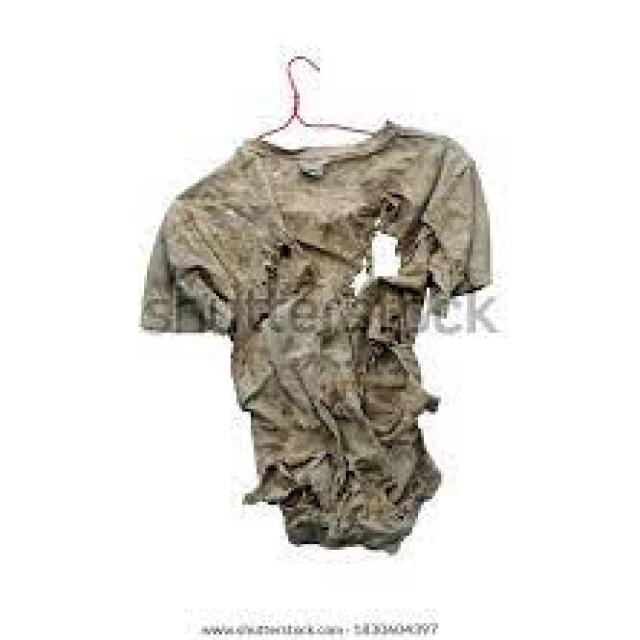Clothes -Biodegradable-: (138, 120, 497, 560)
